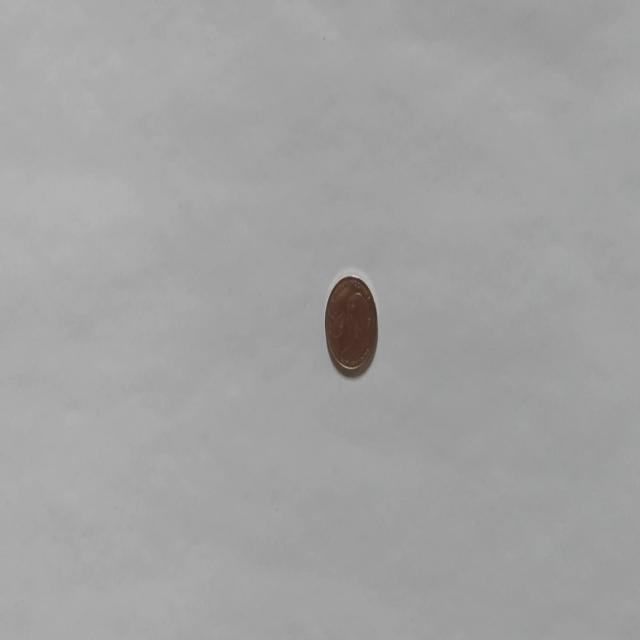seribu rupiah koin: (323, 268, 379, 377)
